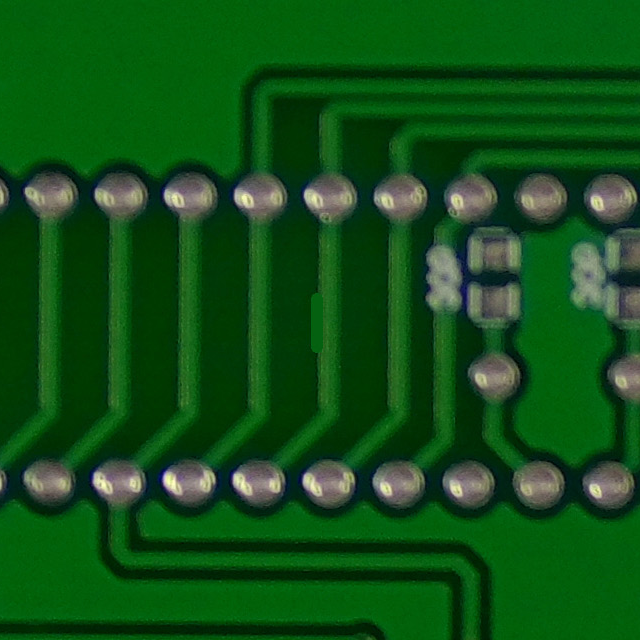spur: (299, 282, 341, 359)
